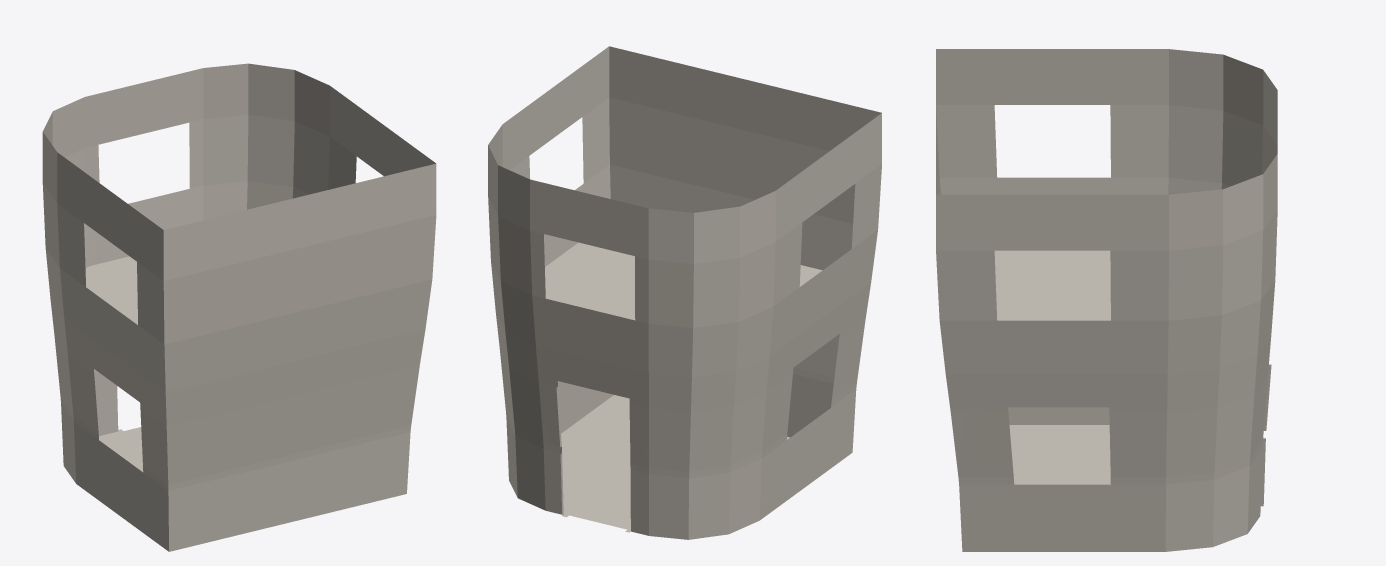
The model's file is Bld_C_low_L1_B.fbx.
3 renders of one model, left to right at view 1: azimuth 30°, elevation 25°; view 2: azimuth 150°, elevation 25°; view 3: azimuth 270°, elevation 25°, orthographic. The views are drawn at different scales.
Parts seen in each view (by area): view 1: Bld_C_low_L1_B_LOD0; view 2: Bld_C_low_L1_B_LOD0; view 3: Bld_C_low_L1_B_LOD0.
Boxes of the visible parts, x1=… form: Bld_C_low_L1_B_LOD0: x1=42, y1=63, x2=436, y2=551; Bld_C_low_L1_B_LOD0: x1=488, y1=46, x2=881, y2=539; Bld_C_low_L1_B_LOD0: x1=936, y1=49, x2=1277, y2=551.
Size of what is drawn, in the model's own units: 500 by 670 by 609.
Materials: 1 (1 with a texture image).
